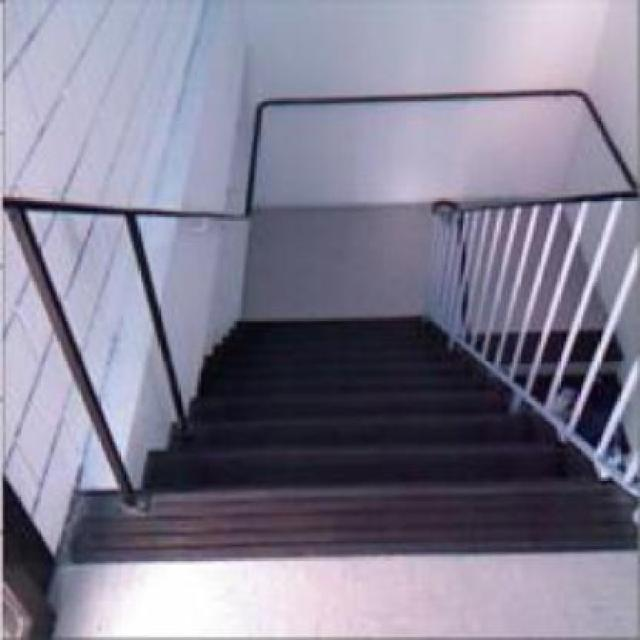stair: (127, 297, 555, 514)
